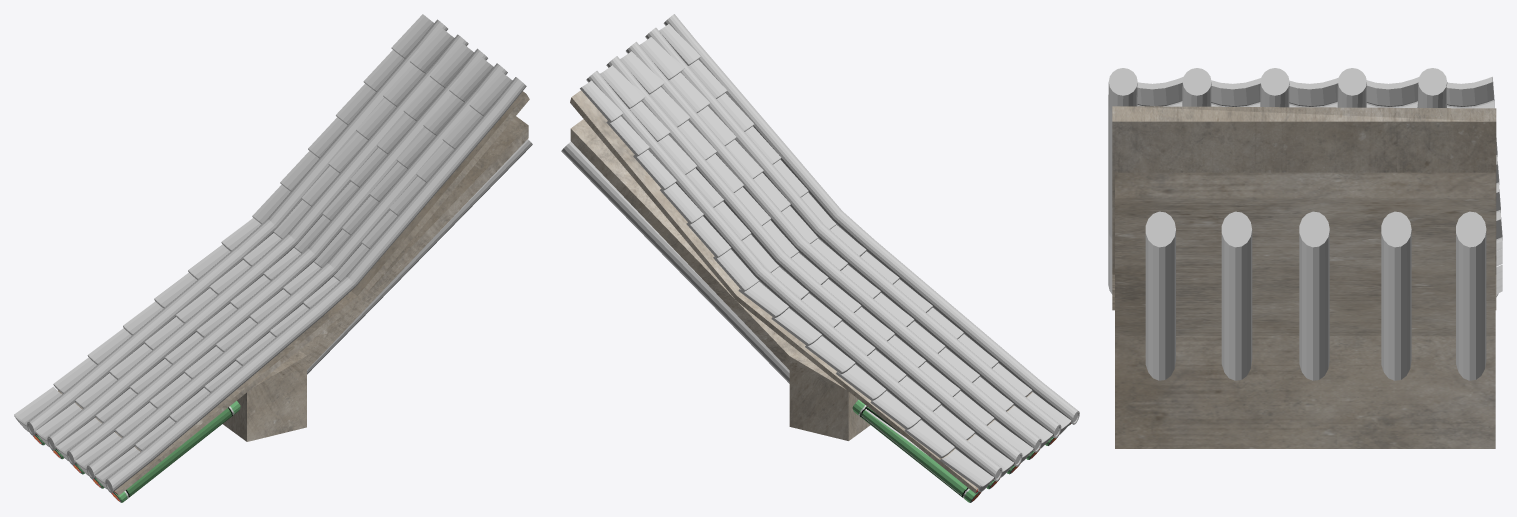
Rendered from SM_Roof_12.fbx.
3 renders of one model, left to right at view 1: azimuth 30°, elevation 25°; view 2: azimuth 150°, elevation 25°; view 3: azimuth 270°, elevation 25°, orthographic. The views are drawn at different scales.
Parts seen in each view (by area): view 1: SM_Roof_12; view 2: SM_Roof_12; view 3: SM_Roof_12.
Boxes of the visible parts, bbox=[...] form: SM_Roof_12: bbox=[14, 14, 532, 502]; SM_Roof_12: bbox=[561, 14, 1079, 502]; SM_Roof_12: bbox=[1108, 68, 1502, 448].
Size of the model in its own units: 518 by 207 by 383.
